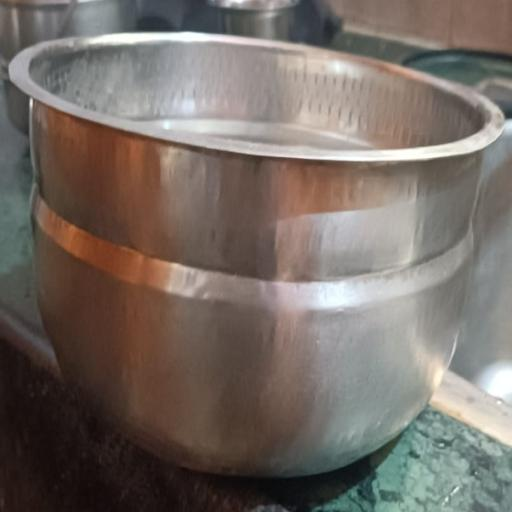vessel: (11, 32, 504, 476)
